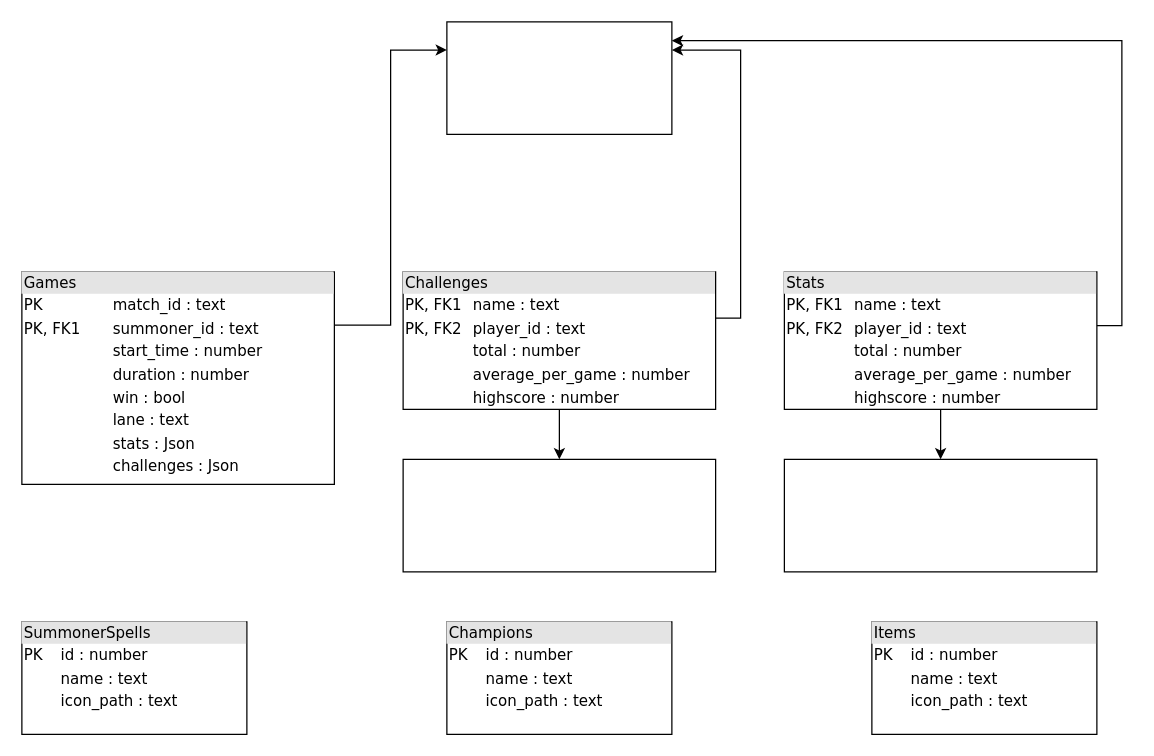
Image size: 1154x756. Some labels were removed from this diagram. The shapes that lost their labels are listed below. From the top down, each one's centre as x and y in pixels, then its label:
the point at 559,77: Summoners PK puuid : text level : number icon_path : text
the point at 559,515: ChallengeClasses PK name : text class : text comparison_operator : text
the point at 940,515: StatClasses PK name : text class : text comparison_operator : text
